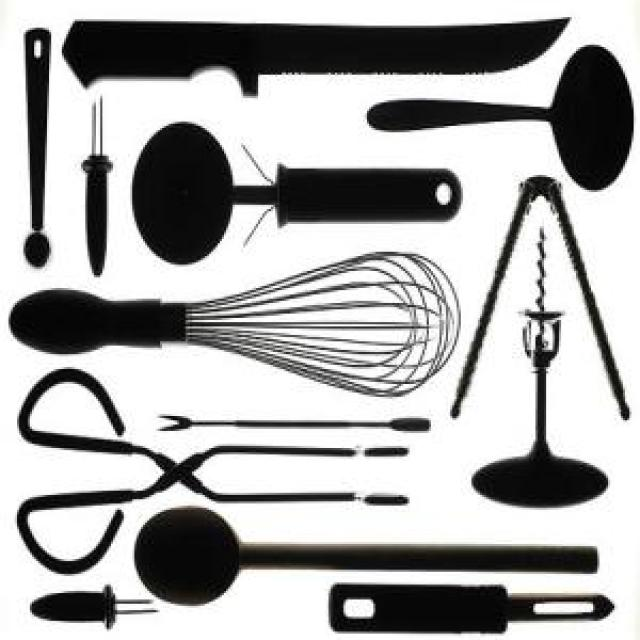knife: (62, 15, 577, 95), (324, 574, 617, 638)
